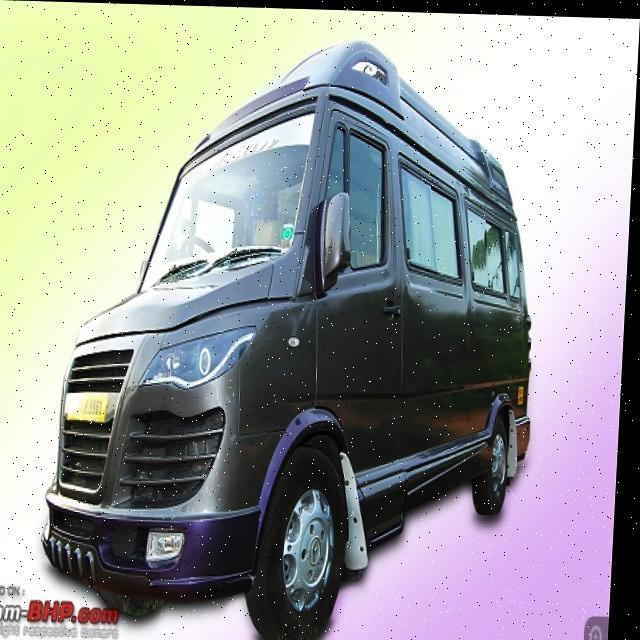Ambulance: (39, 27, 555, 640)
